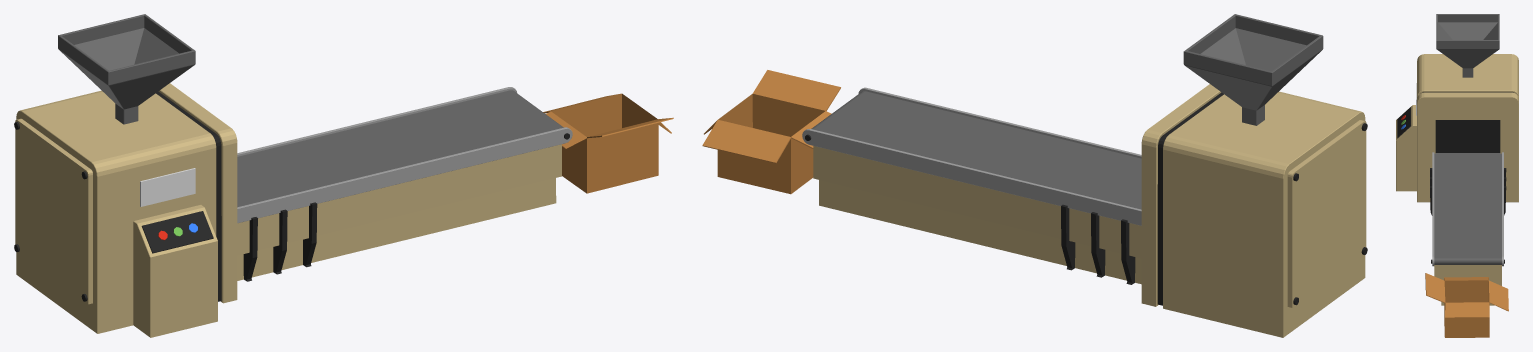
File: packaging_machine.glb
3 views of the same model, side by side, from view 1: azimuth 30°, elevation 25°; view 2: azimuth 150°, elevation 25°; view 3: azimuth 270°, elevation 25° (orthographic). The views are drawn at different scales.
Visible parts, largest first — view 1: Cube.014; view 2: Cube.014; view 3: Cube.014.
Part boxes in pixels (left/top/right/bottom): Cube.014: left=14, top=14, right=673, bottom=337; Cube.014: left=702, top=14, right=1367, bottom=337; Cube.014: left=1396, top=14, right=1518, bottom=337.
Size of the model in its own units: 8.6 by 3.33 by 2.41.
